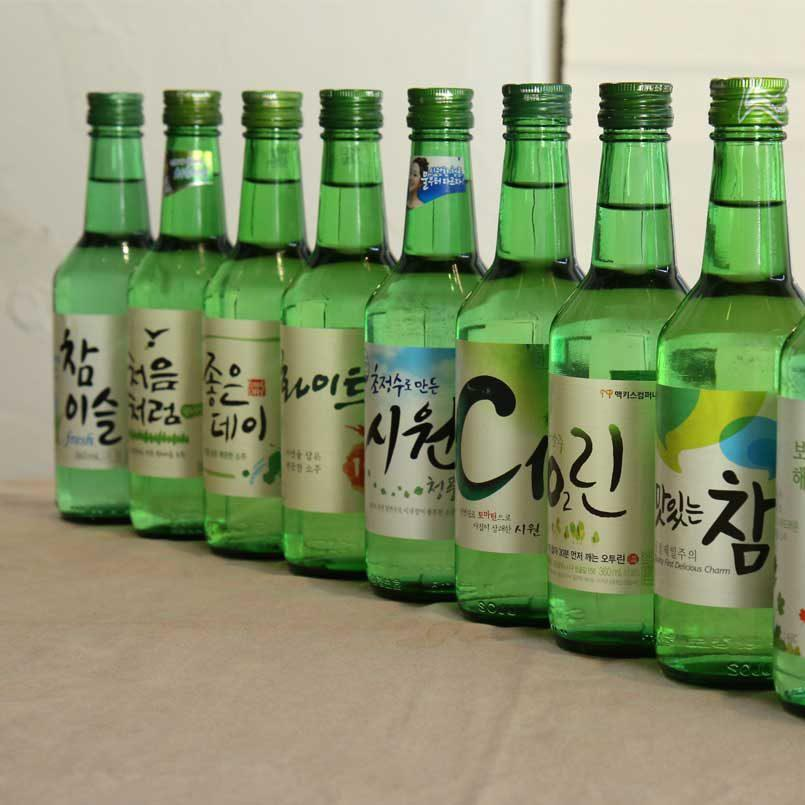soju: (46, 76, 805, 720)
